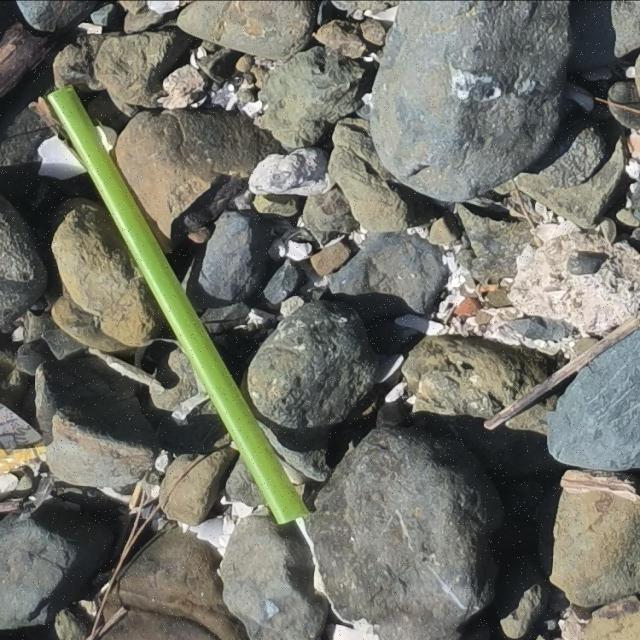plastic_waste: (47, 83, 314, 527)
